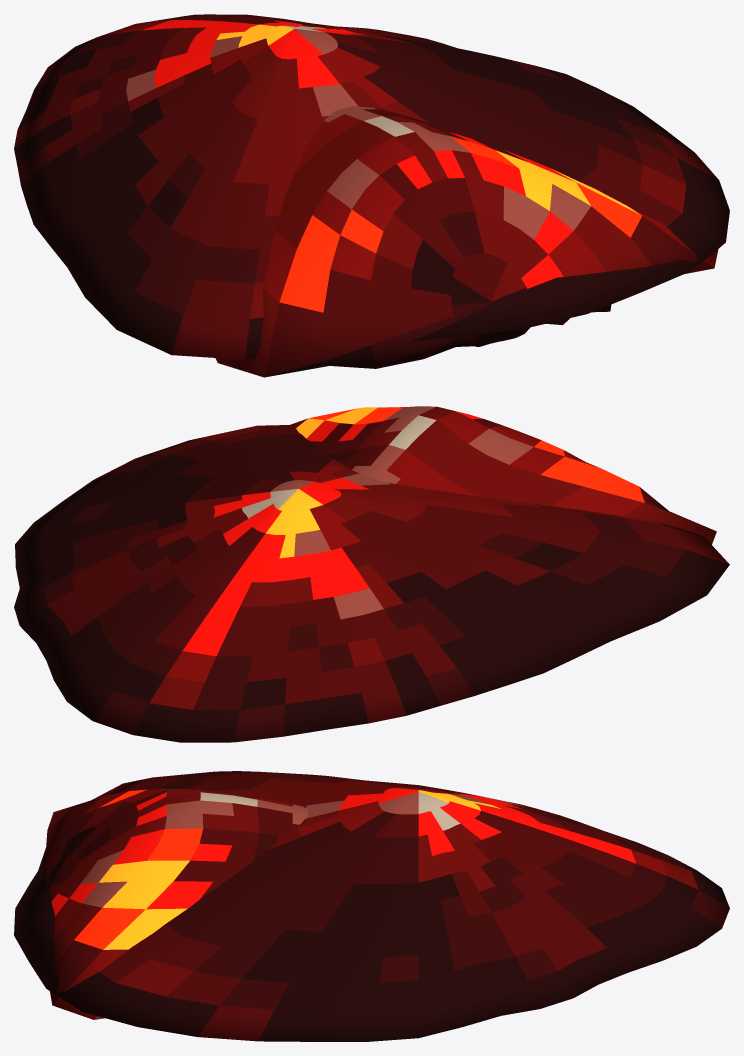
Rendered from newshg-77-f2.glb.
3 renders of one model, top to bottom at view 1: azimuth 30°, elevation 25°; view 2: azimuth 150°, elevation 25°; view 3: azimuth 270°, elevation 25°, orthographic. The views are drawn at different scales.
Parts seen in each view (by area): view 1: newshg-77-f2-117, newshg-77-f2; view 2: newshg-77-f2-117, newshg-77-f2; view 3: newshg-77-f2-117, newshg-77-f2.
Boxes of the visible parts, <box> form: newshg-77-f2-117: <box>14,14,729,359</box>; newshg-77-f2: <box>215,106,718,377</box>; newshg-77-f2-117: <box>14,425,729,742</box>; newshg-77-f2: <box>290,406,716,544</box>; newshg-77-f2-117: <box>14,771,729,1041</box>; newshg-77-f2: <box>38,789,308,1019</box>.
Size of the model in its own units: 1.56 by 0.44 by 1.78.
